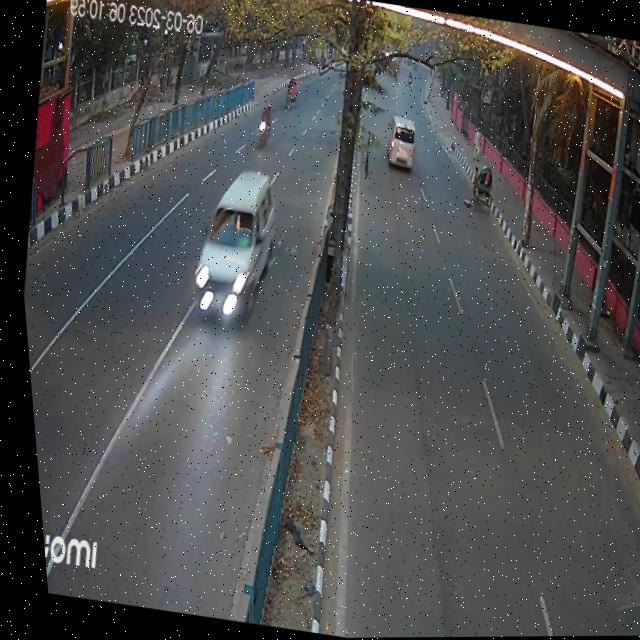rikshaw: (464, 161, 496, 217), (281, 77, 302, 115)
